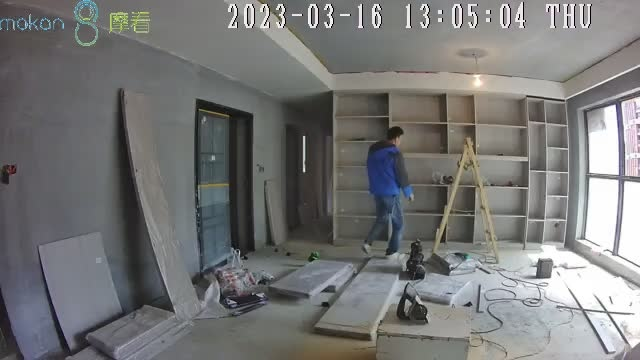people: (367, 126, 414, 260)
window: (584, 96, 640, 265)
